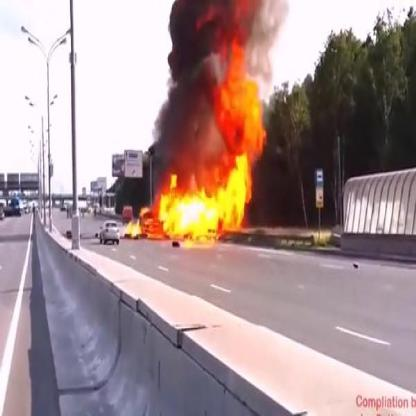fire: (207, 0, 268, 162), (153, 150, 253, 244), (124, 220, 145, 239)
